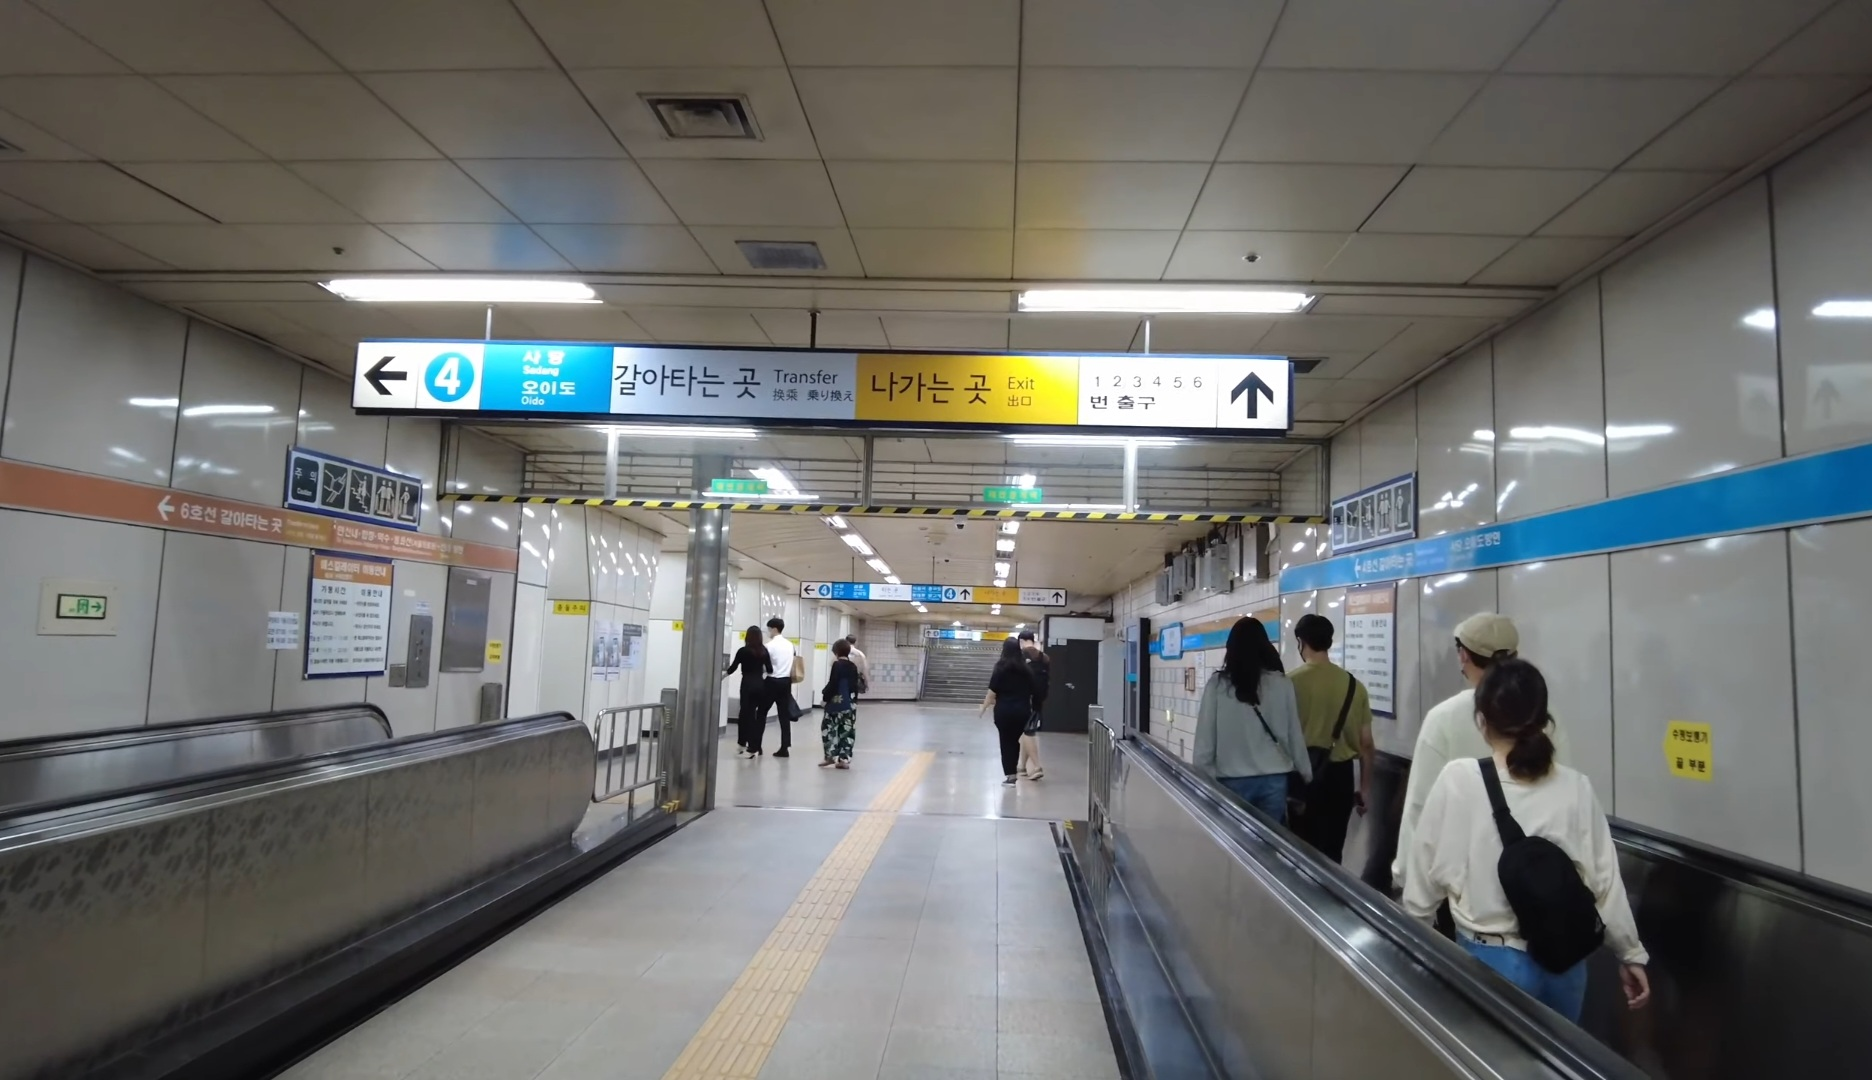signBoard: (318, 283, 1335, 463)
